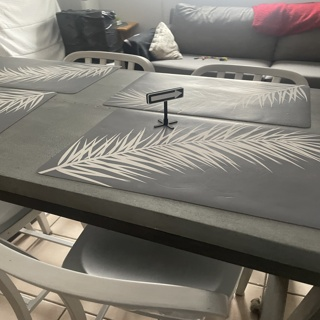sign_oneway_right: (146, 88, 183, 100)
